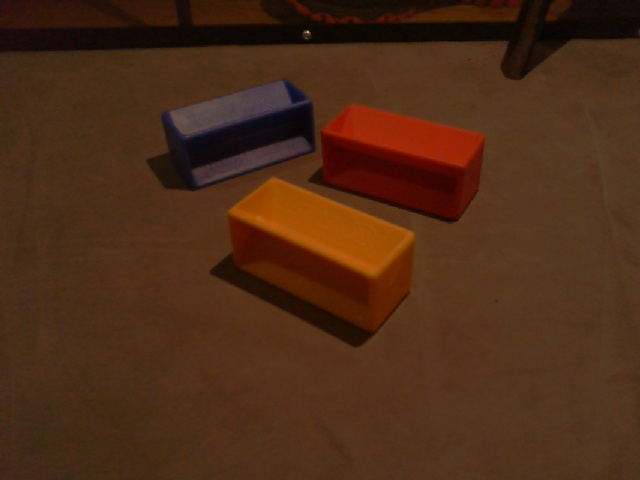BlueSample: (158, 76, 320, 190)
RedSample: (319, 101, 486, 223)
YellowSample: (224, 176, 417, 333)
